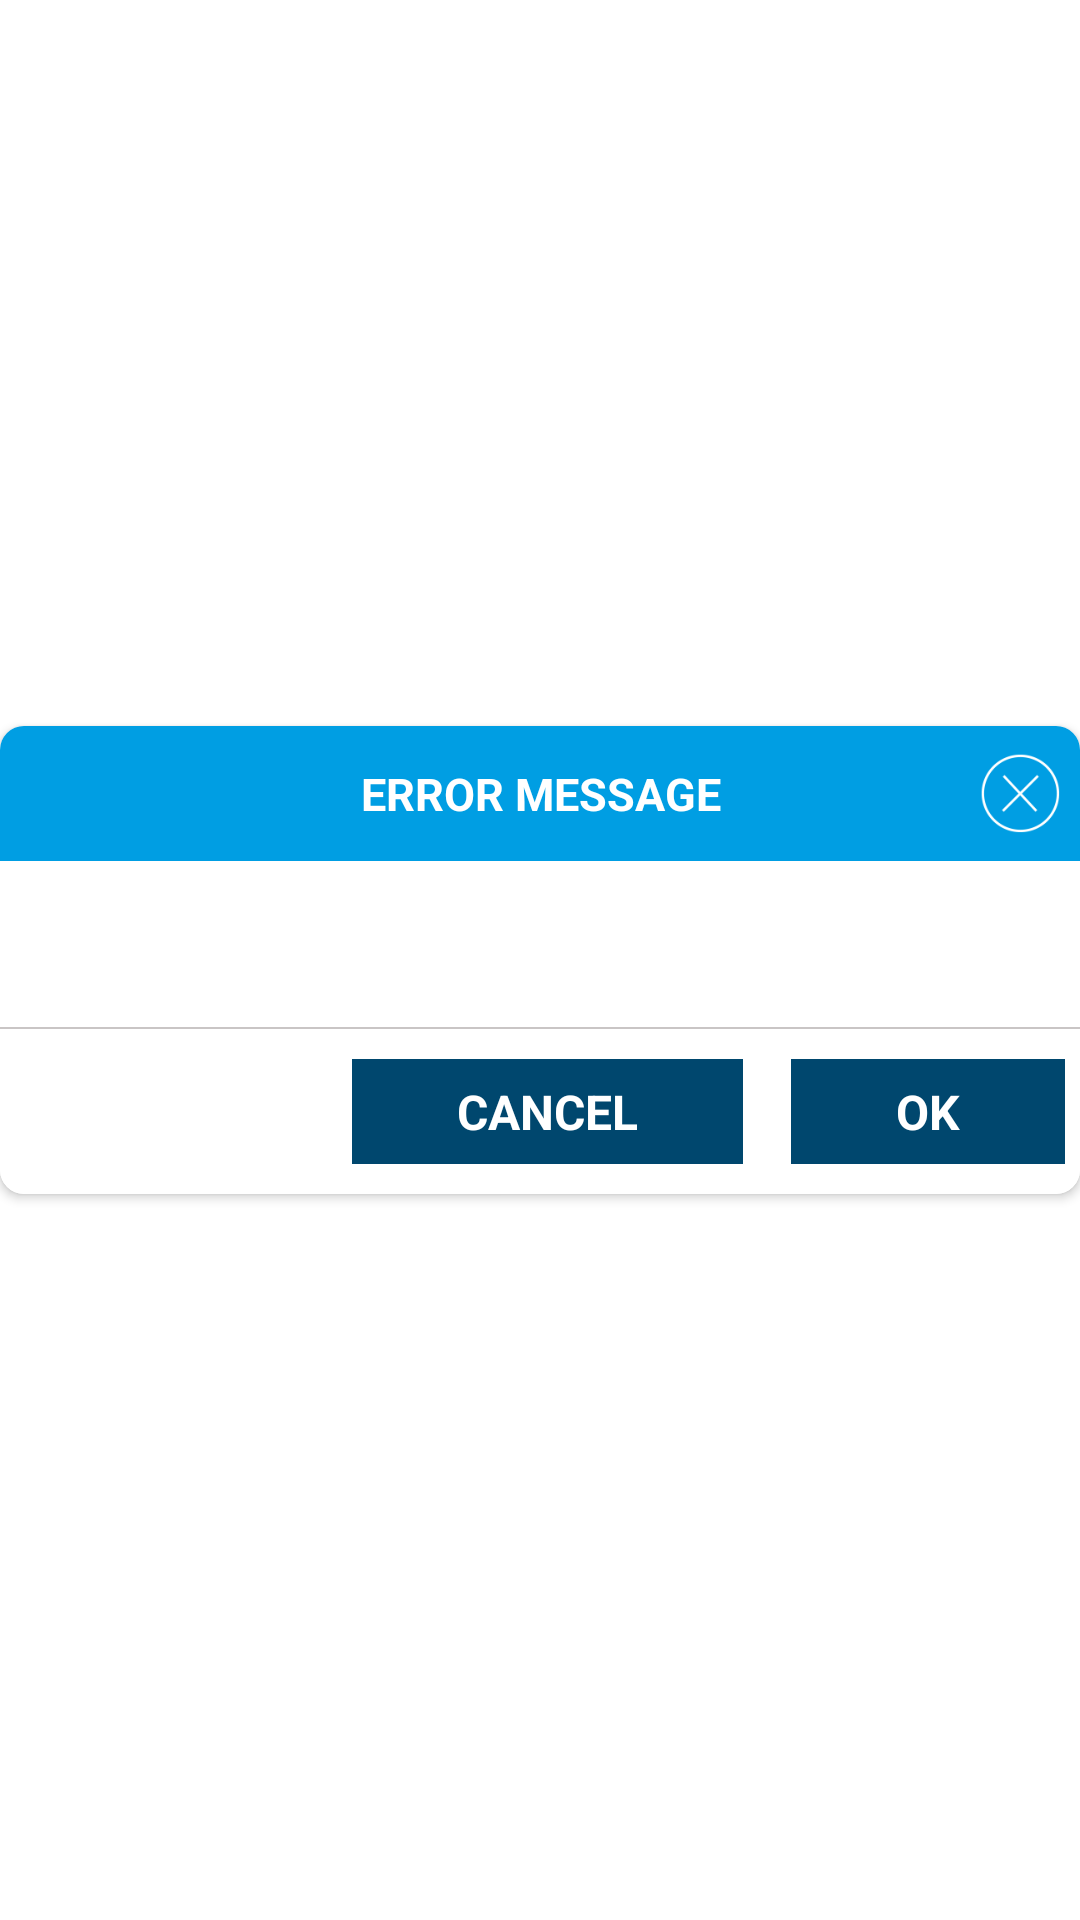

Where icons sit on this 1080px x 1920px app screen, as [x1,y1,x2,y2]:
close: [981,754,1060,833]
